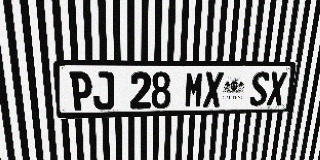2: (130, 72, 151, 109)
8: (151, 72, 171, 109)
J: (92, 72, 114, 110)
M: (184, 72, 204, 108)
P: (69, 72, 93, 111)
S: (249, 72, 270, 106)
X: (203, 72, 224, 107), (266, 72, 287, 106)
